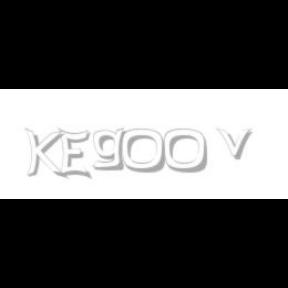E: (57, 128, 90, 180)
K: (24, 128, 64, 180)
O: (122, 128, 166, 174), (164, 128, 208, 174)
g: (92, 128, 130, 171)
v: (216, 128, 256, 160)
